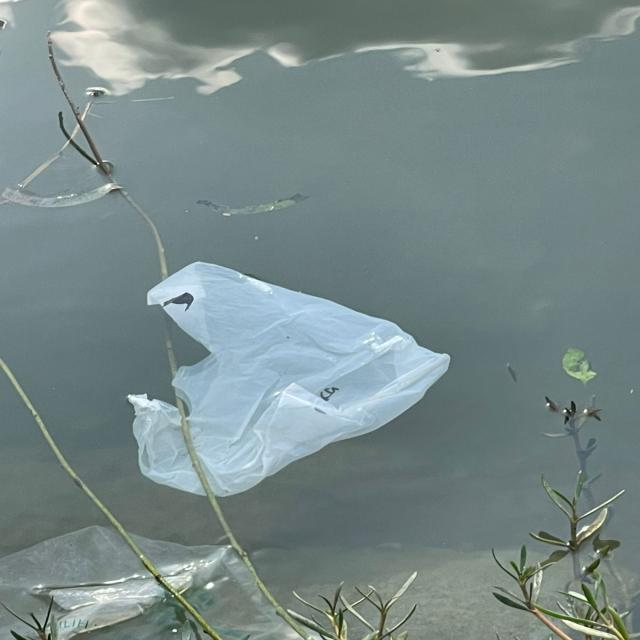Kantong Plastik: (119, 259, 456, 499)
